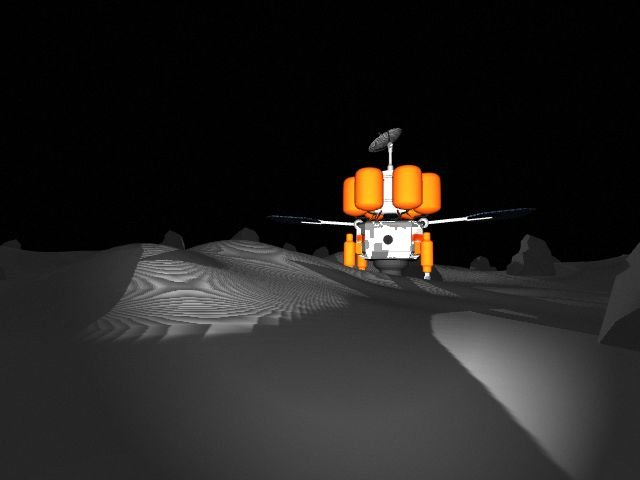homebase: (251, 125, 540, 283)
